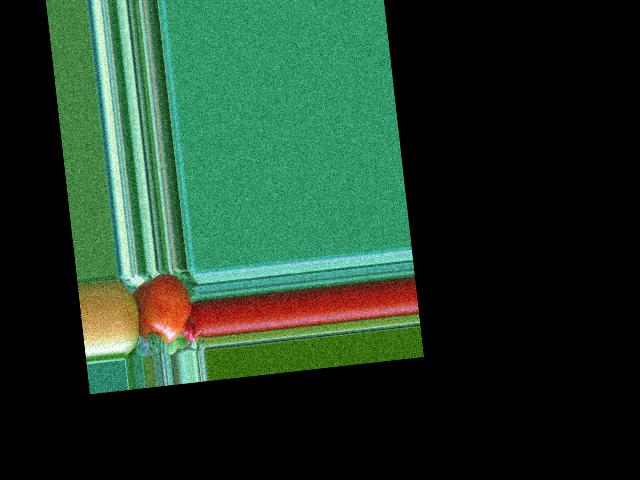tomato: (133, 271, 195, 345)
